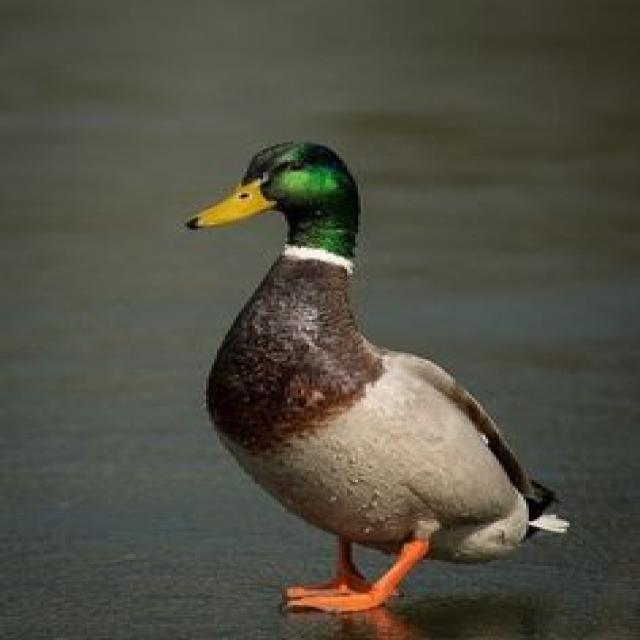Herbivorous: (184, 142, 569, 617)
